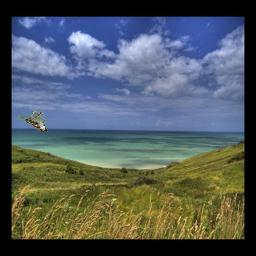Sparrow: (18, 110, 48, 133)
